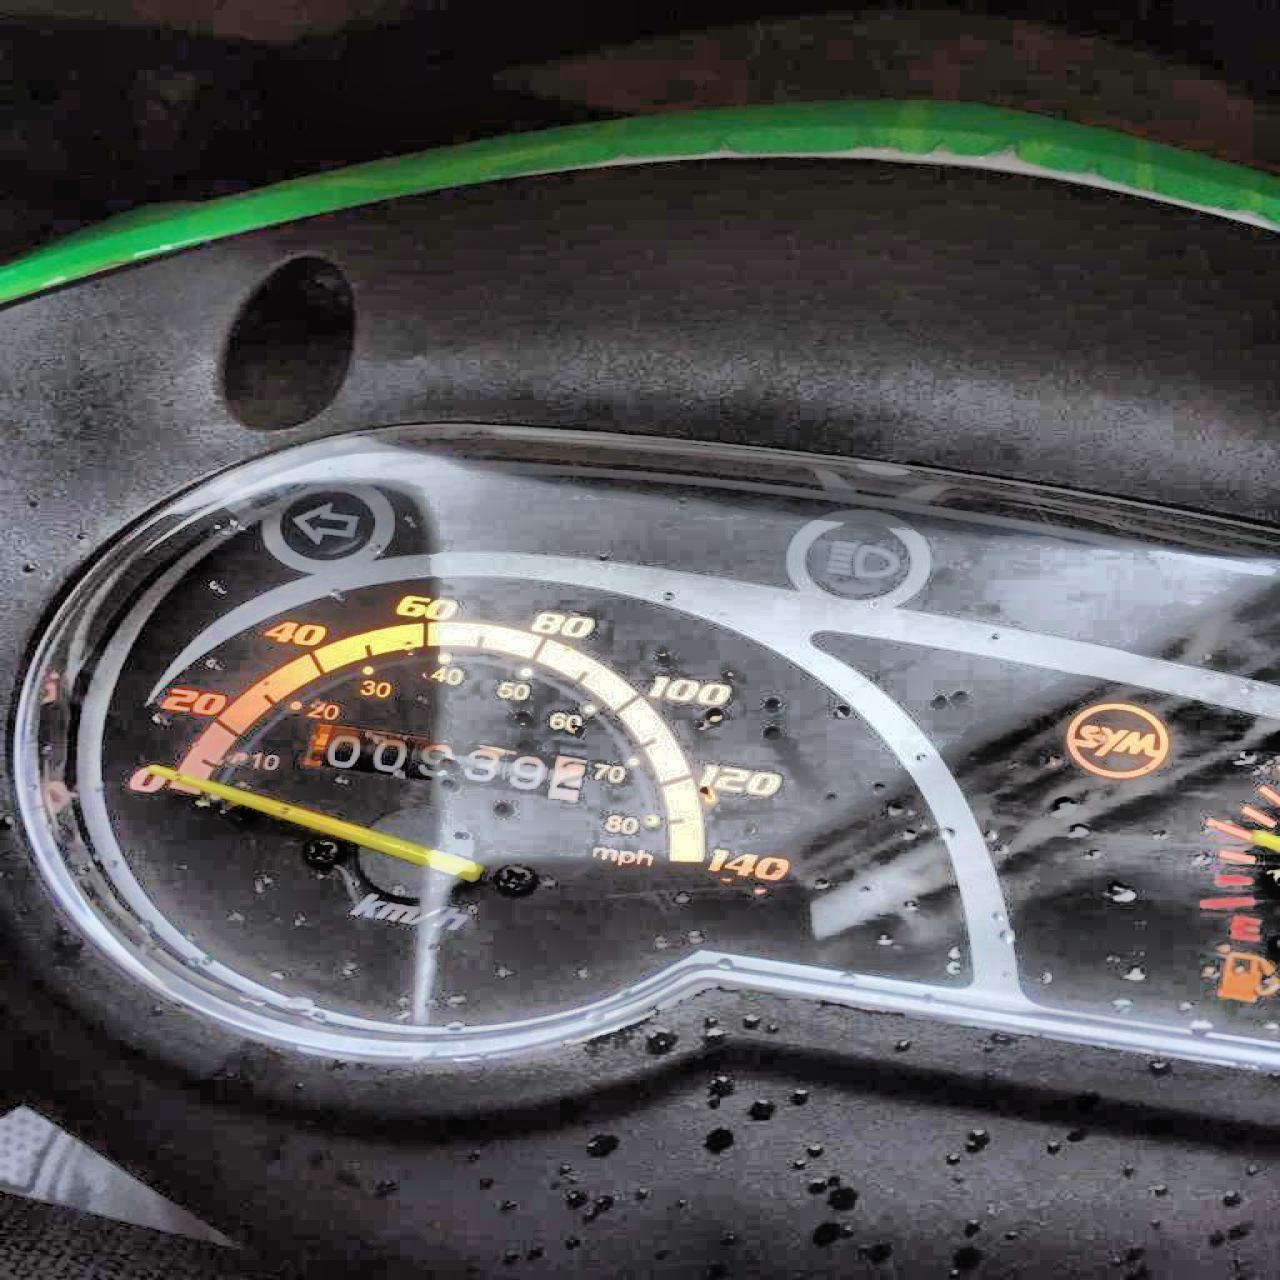0: (319, 730, 360, 770), (372, 735, 406, 774), (565, 714, 580, 733)
2: (556, 757, 587, 794)
3: (462, 747, 498, 783)
6: (549, 712, 564, 730)
9: (506, 753, 545, 790), (415, 742, 451, 777)
odometer: (290, 715, 590, 805)
